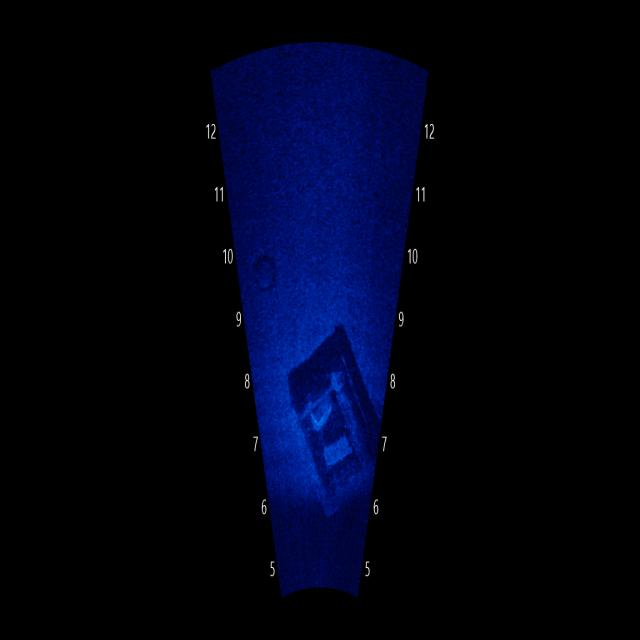square: (277, 314, 389, 512)
